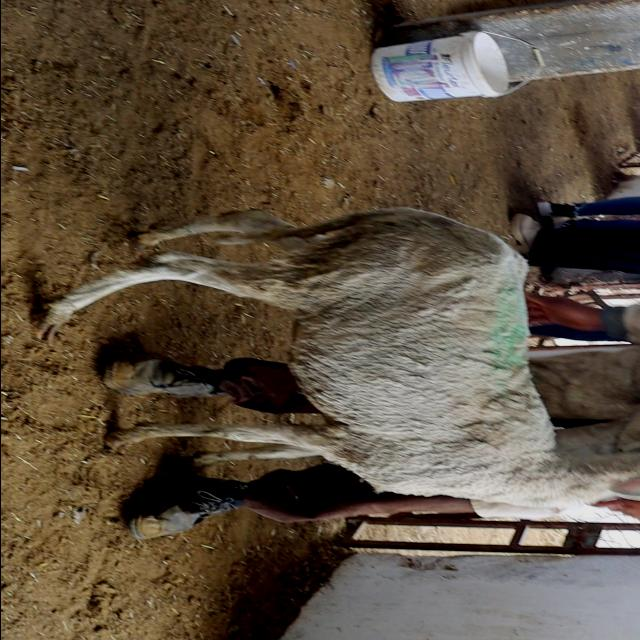Score_1: (39, 207, 640, 505)
